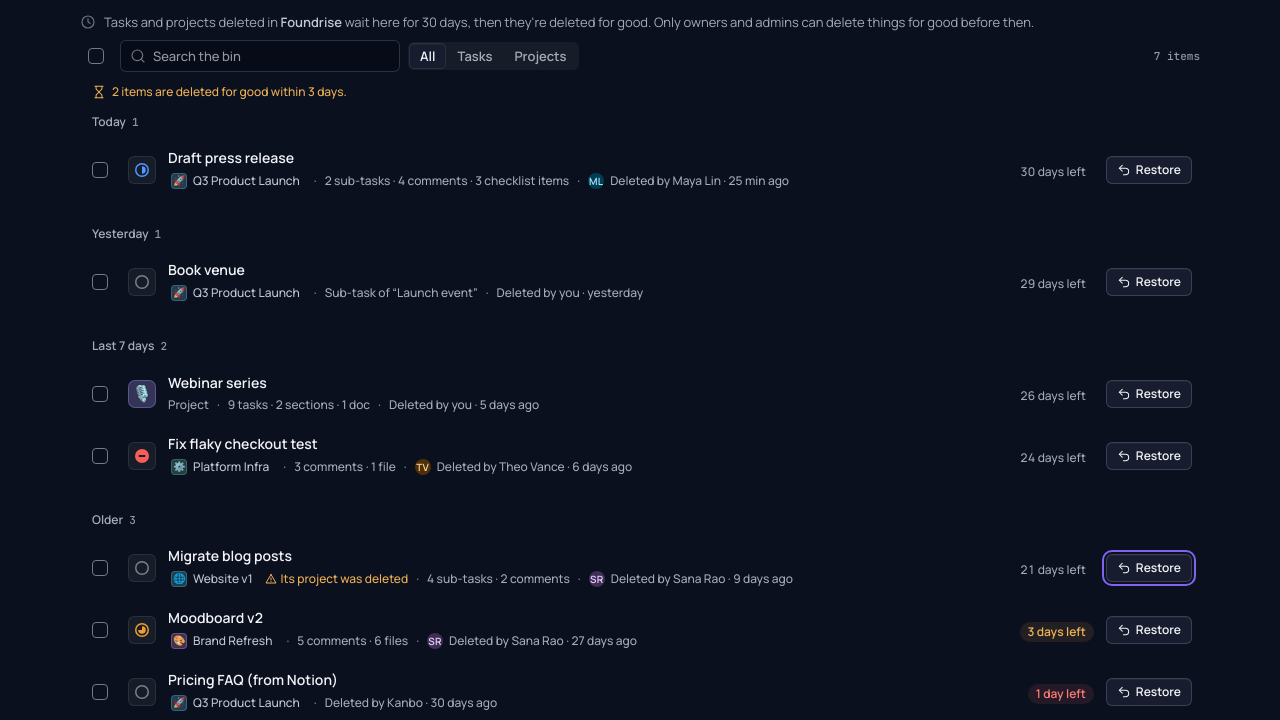
Test: RecycleBin › Restore puts it back, says where (with the server's note) and tells the host
What coordinates should you click on to do the following:
click the button with aria-label "Restore “Migrate blog posts”"
I would click on:
 (1149, 568)
Its box is [1106, 554, 1192, 582].
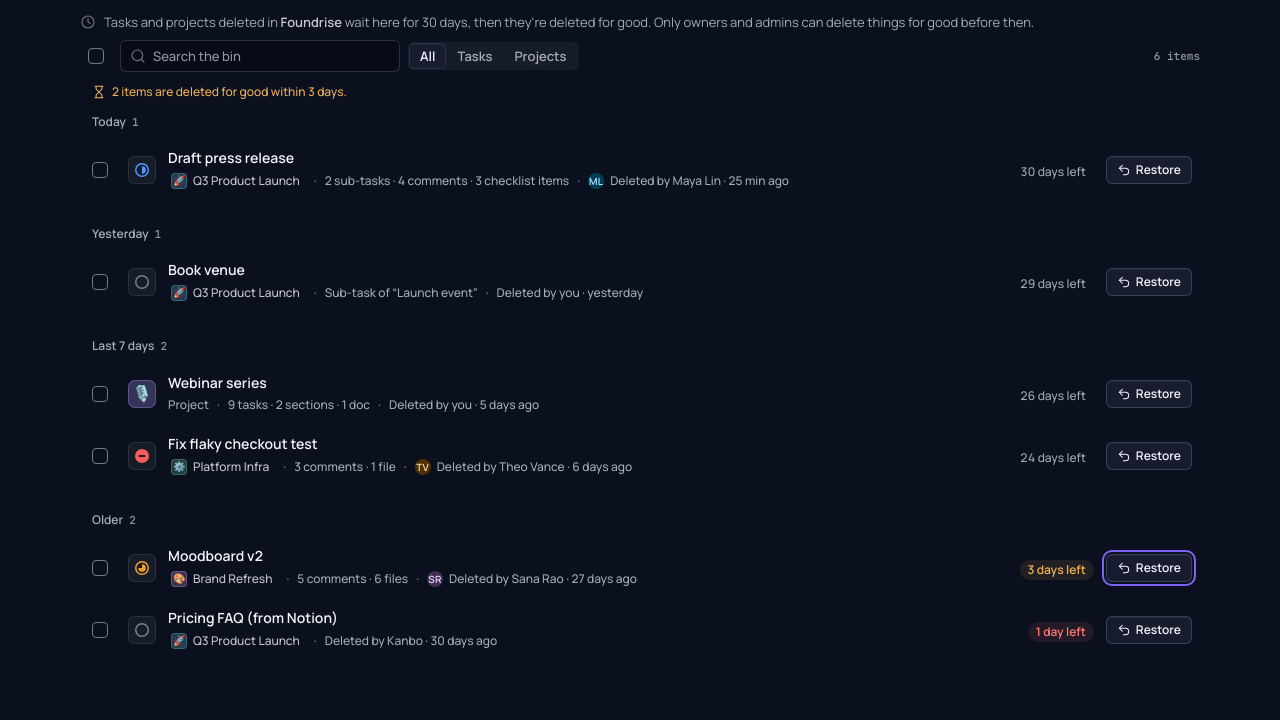
Result: the text "6 items" is shown at [1154, 48, 1200, 64]
